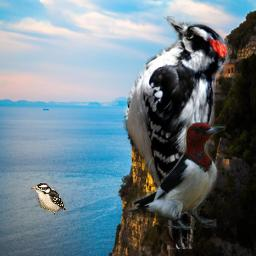Woodpecker: (122, 16, 232, 249), (127, 122, 227, 230), (30, 183, 67, 215)
